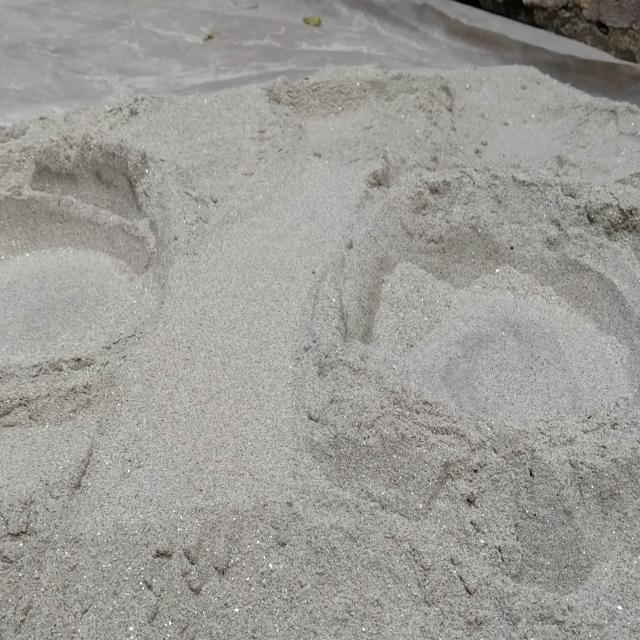C20: (345, 175, 640, 430), (0, 177, 155, 367)
